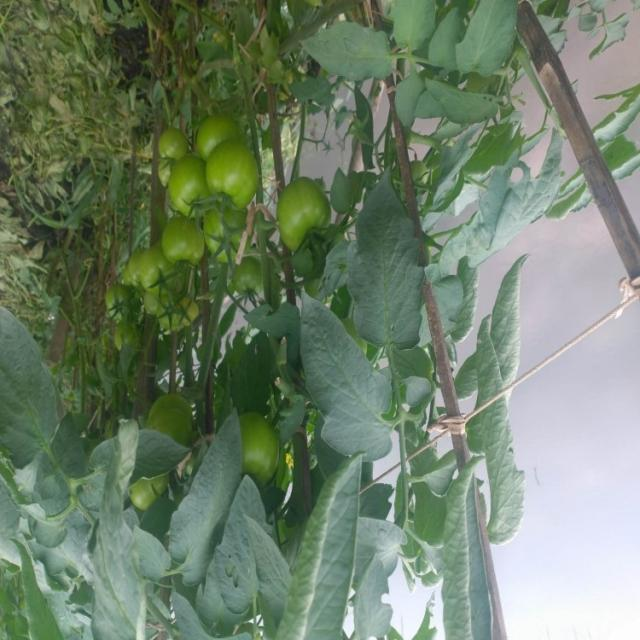tomato: (269, 174, 339, 253), (211, 191, 271, 272), (208, 135, 265, 214), (228, 412, 287, 486), (150, 213, 214, 276), (180, 107, 239, 160), (126, 237, 174, 298), (110, 464, 170, 512), (146, 392, 195, 446), (138, 121, 185, 176), (91, 276, 138, 324), (169, 172, 215, 216), (228, 264, 268, 303), (152, 292, 190, 333), (174, 292, 202, 328), (112, 321, 144, 344)
